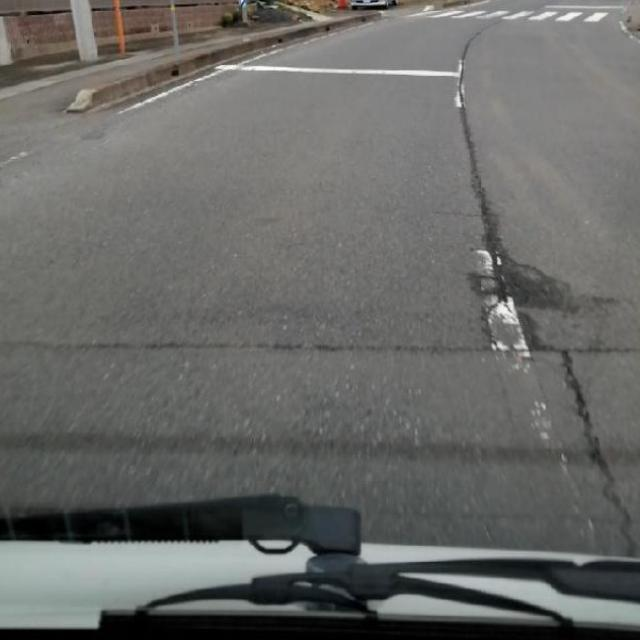Melintang: (0, 327, 574, 366)
Memanjang: (436, 18, 640, 556)
